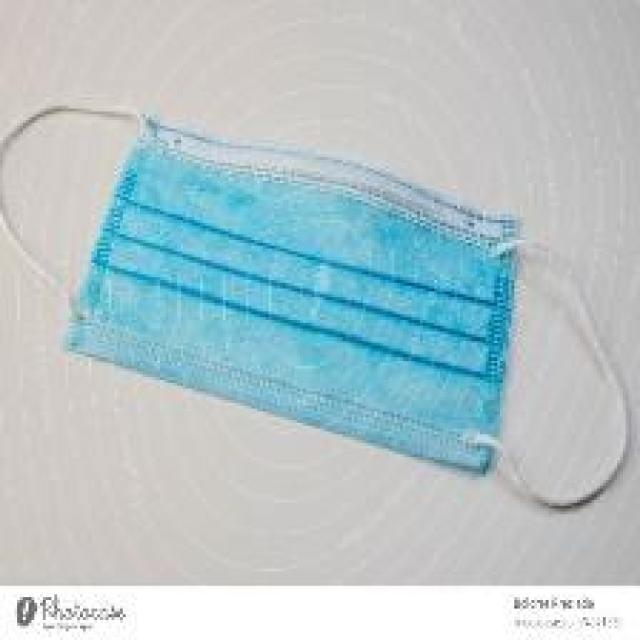Mask: (7, 85, 638, 528)
